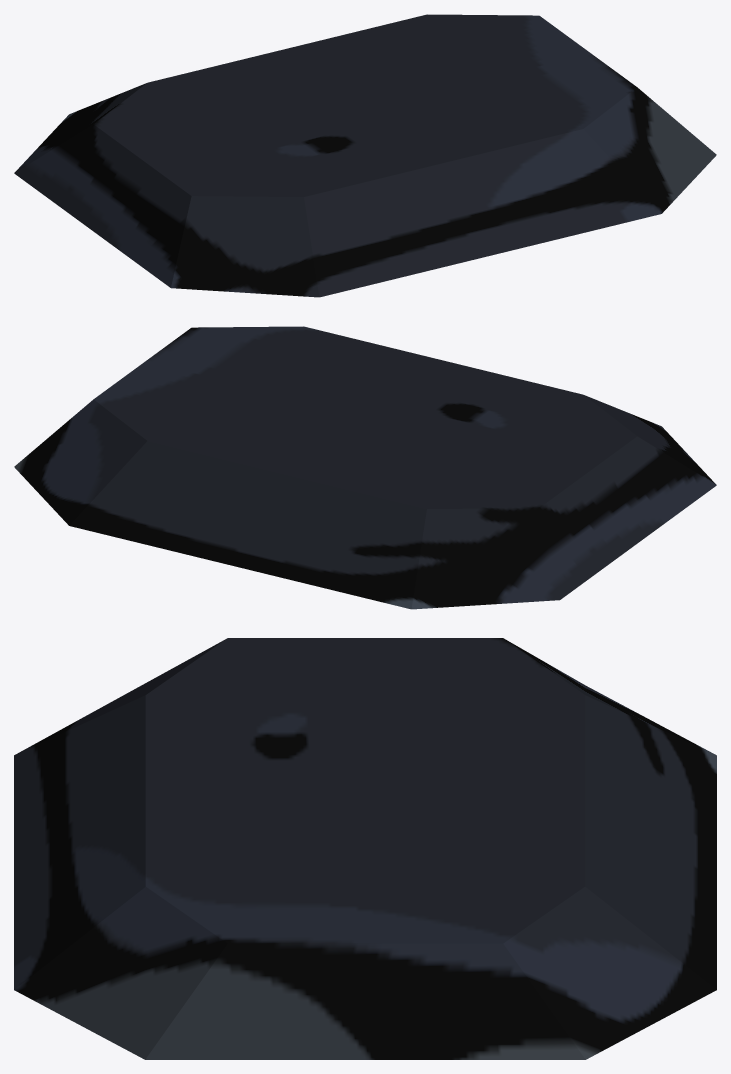
File: DaA.fbx
3 renders of one model, top to bottom at view 1: azimuth 30°, elevation 25°; view 2: azimuth 150°, elevation 25°; view 3: azimuth 270°, elevation 25°, orthographic. The views are drawn at different scales.
Visible parts, largest first — view 1: DaA; view 2: DaA; view 3: DaA.
Boxes of the visible parts, x1,y1,x2,y2 form: DaA: (14,14,716,297); DaA: (14,326,716,609); DaA: (14,638,716,1059).
Size of the model in its own units: 0.5717 by 0.4537 by 0.0583.
1 material, 1 textured.
